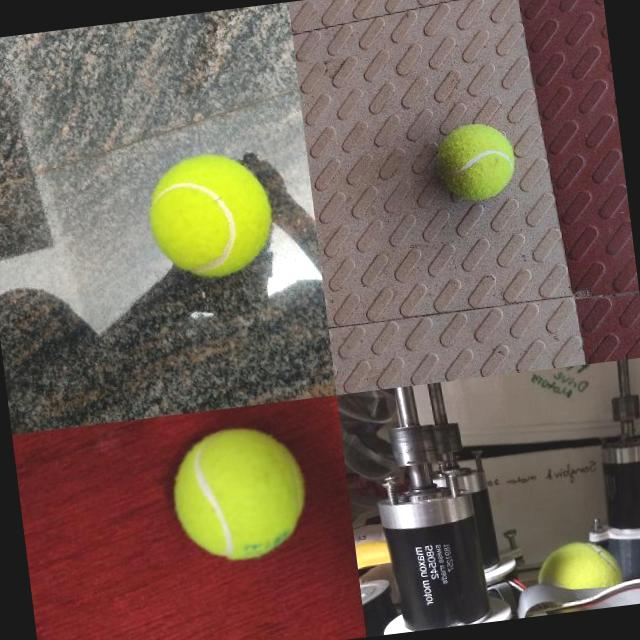Tennis Ball: (166, 420, 313, 566), (142, 146, 278, 284), (432, 119, 518, 204), (534, 536, 622, 584)
